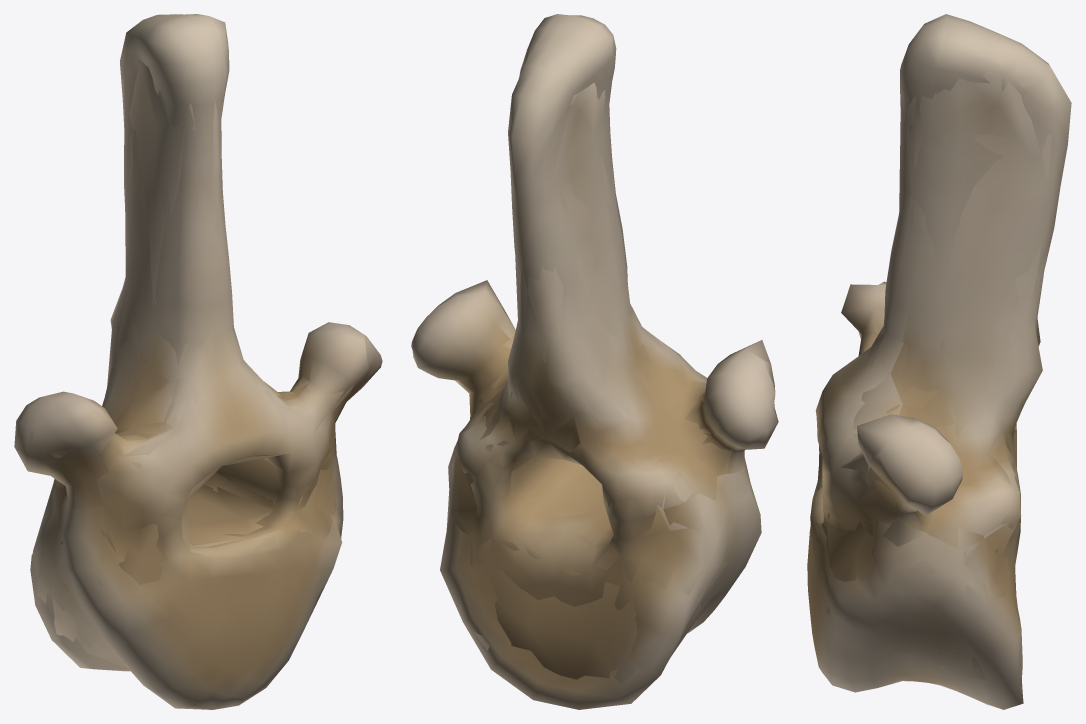
File: vertebrae thoracicae 11.fbx
3 renders of one model, left to right at view 1: azimuth 30°, elevation 25°; view 2: azimuth 150°, elevation 25°; view 3: azimuth 270°, elevation 25°, orthographic. The views are drawn at different scales.
Visible parts, largest first — view 1: vertebrae thoracicae 11, vertebrae thoracicae 11 low; view 2: vertebrae thoracicae 11, vertebrae thoracicae 11 low; view 3: vertebrae thoracicae 11, vertebrae thoracicae 11 low.
Boxes of the visible parts, bbox=[...] form: vertebrae thoracicae 11: bbox=[14, 14, 382, 709]; vertebrae thoracicae 11 low: bbox=[31, 59, 368, 668]; vertebrae thoracicae 11: bbox=[411, 14, 778, 709]; vertebrae thoracicae 11 low: bbox=[446, 39, 774, 683]; vertebrae thoracicae 11: bbox=[807, 14, 1071, 709]; vertebrae thoracicae 11 low: bbox=[815, 53, 1051, 688].
Bounding box in the file's own units: 7.37 × 13.1 × 4.59.
1 material, 1 textured.
